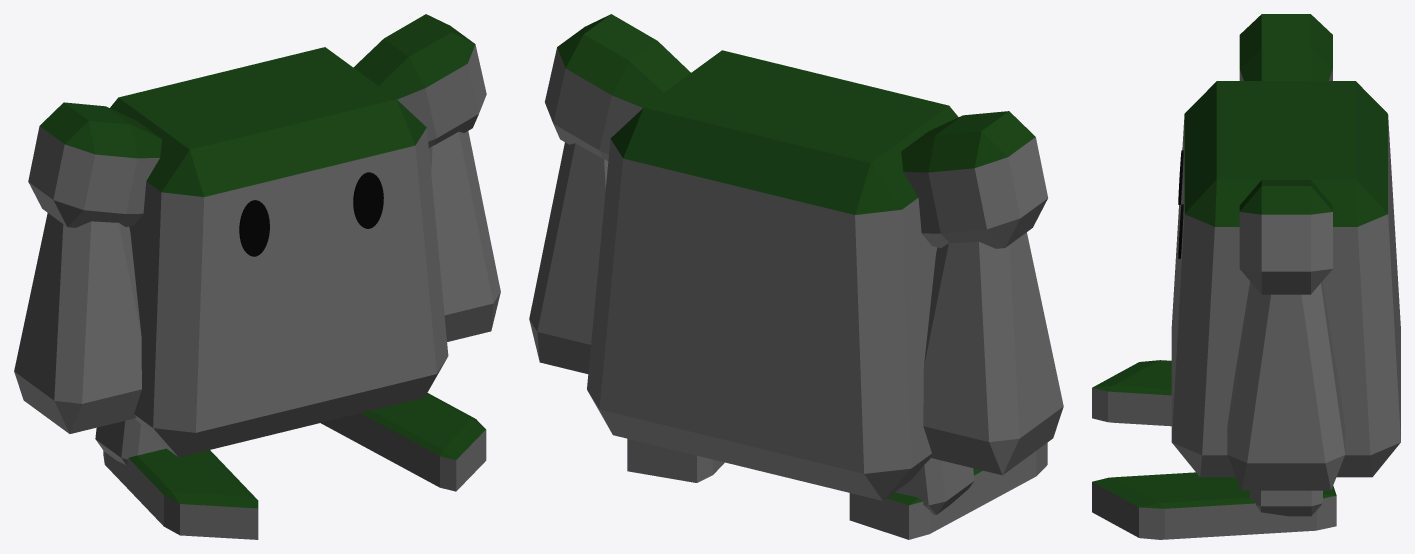
Rendered from golemStand.fbx.
3 renders of one model, left to right at view 1: azimuth 30°, elevation 25°; view 2: azimuth 150°, elevation 25°; view 3: azimuth 270°, elevation 25°, orthographic. The views are drawn at different scales.
Visible parts, largest first — view 1: Cube.038; view 2: Cube.038; view 3: Cube.038.
Boxes of the visible parts, left/top/right/bottom form: Cube.038: left=14, top=14, right=500, bottom=539; Cube.038: left=529, top=14, right=1063, bottom=539; Cube.038: left=1092, top=14, right=1400, bottom=539.
Bounding box in the file's own units: 436 × 354 × 269.
